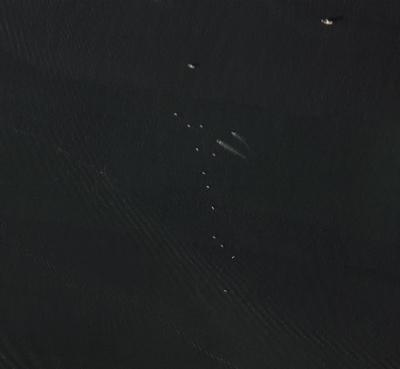Ships: (169, 100, 200, 132), (179, 50, 204, 82), (314, 12, 338, 42)
